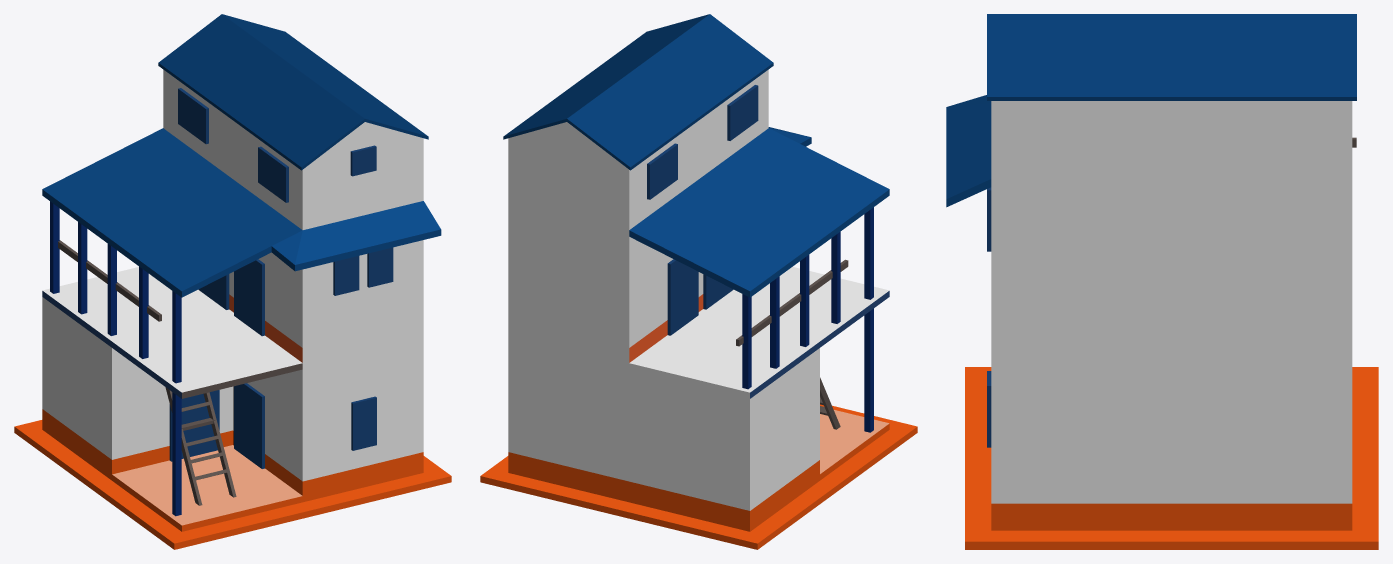
File: nepali_house.glb
The picture shows the model from 3 angles, left to right: view 1: azimuth 30°, elevation 25°; view 2: azimuth 150°, elevation 25°; view 3: azimuth 270°, elevation 25°; orthographic projection. The views are drawn at different scales.
Visible parts, largest first — view 1: Cube_0, Cube.012_11, Cube.019_8, Cube.013_14, Cube.011_10, Cube.008_9, Cube.006_6, Cube.016_17, Cube.017_18, Cube.010_13, Cube.009_12, Cube.005_5 (+7 smaller); view 2: Cube_0, Cube.014_15, Cube.016_17, Cube.006_6, Cube.017_18, Cube.001_1, Cube.005_5, Cube.003_3, Cube.002_2, Cube.004_4, Cube.007_7, Cube.013_14; view 3: Cube_0.
Part boxes in pixels (box(x1,y1,x2,y2)): Cube_0: box(14, 14, 451, 549); Cube.012_11: box(234, 383, 264, 468); Cube.019_8: box(165, 387, 236, 505); Cube.013_14: box(234, 259, 264, 336); Cube.011_10: box(169, 390, 219, 461); Cube.008_9: box(351, 396, 376, 450); Cube.006_6: box(172, 392, 181, 516); Cube.016_17: box(258, 146, 288, 202); Cube.017_18: box(178, 88, 208, 144); Cube.010_13: box(367, 247, 393, 287); Cube.009_12: box(333, 256, 359, 295); Cube.005_5: box(172, 291, 181, 383); Cube_0: box(480, 14, 917, 549); Cube.014_15: box(667, 259, 698, 335); Cube.016_17: box(727, 85, 758, 140); Cube.006_6: box(864, 308, 873, 432); Cube.017_18: box(647, 143, 677, 199); Cube.001_1: box(742, 294, 751, 389); Cube.005_5: box(864, 207, 873, 299); Cube.003_3: box(800, 255, 809, 346); Cube.002_2: box(770, 276, 779, 368); Cube.004_4: box(831, 232, 840, 323); Cube.007_7: box(736, 259, 848, 346); Cube.013_14: box(703, 274, 733, 309); Cube_0: box(946, 14, 1378, 549).
Size of the model in its own units: 9.17 by 11.9 by 9.58.
1 material, 1 textured.
